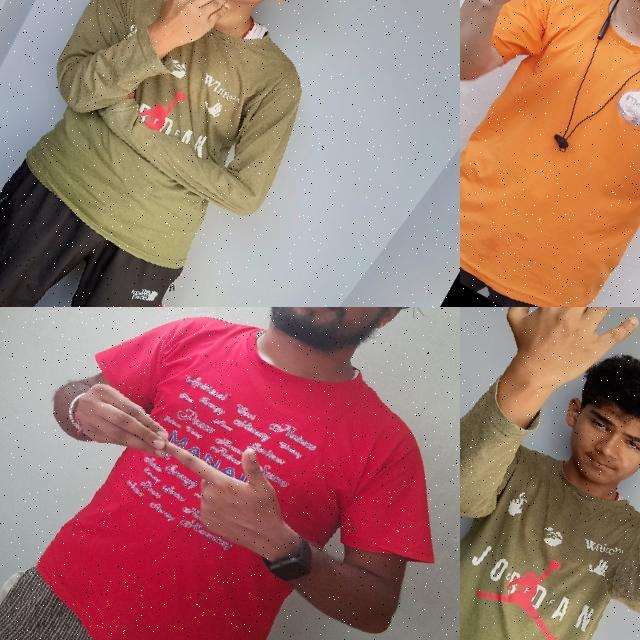Chin Flick: (126, 0, 362, 115)
Corna: (460, 0, 584, 41)
Five Fathers: (36, 350, 323, 582)
Moutza: (480, 307, 640, 421)
